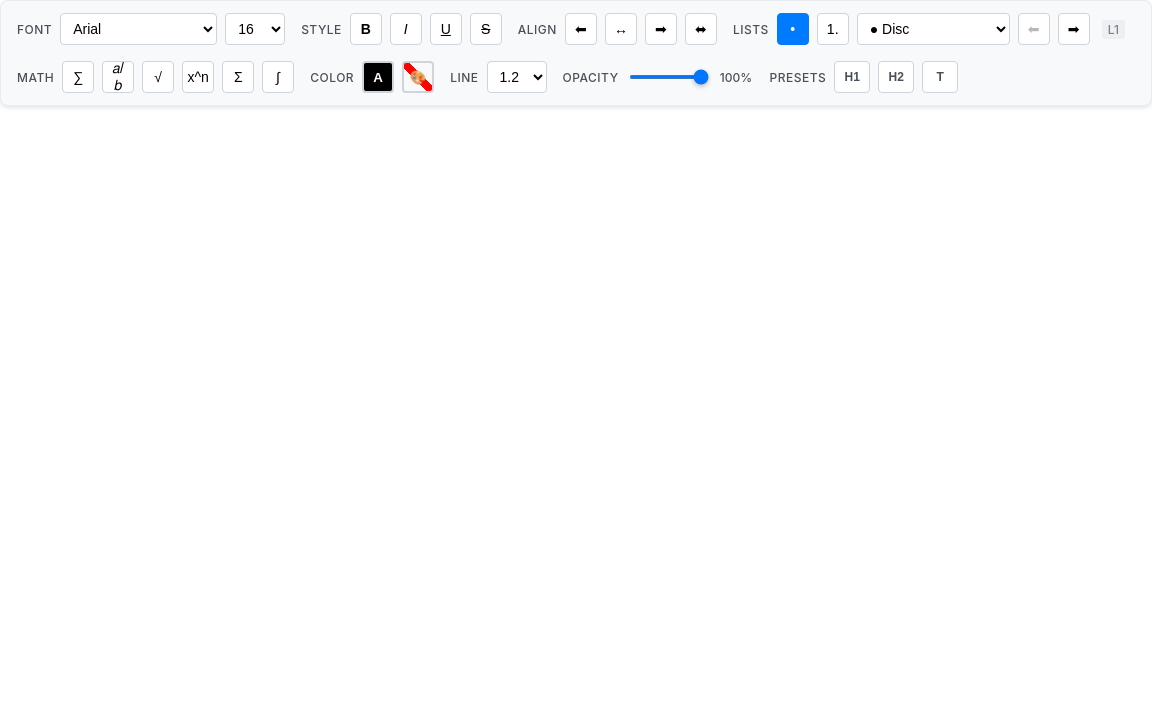
Test case: TextFormattingToolbar - List Functionality › closes custom bullet dialog when Cancel is clicked
This screenshot has width=1152, height=720.
Open custom bullet dialog
Select "✦ Custom" in the dropdown titled "List Style" at (933,29), box [857,13,1010,45]
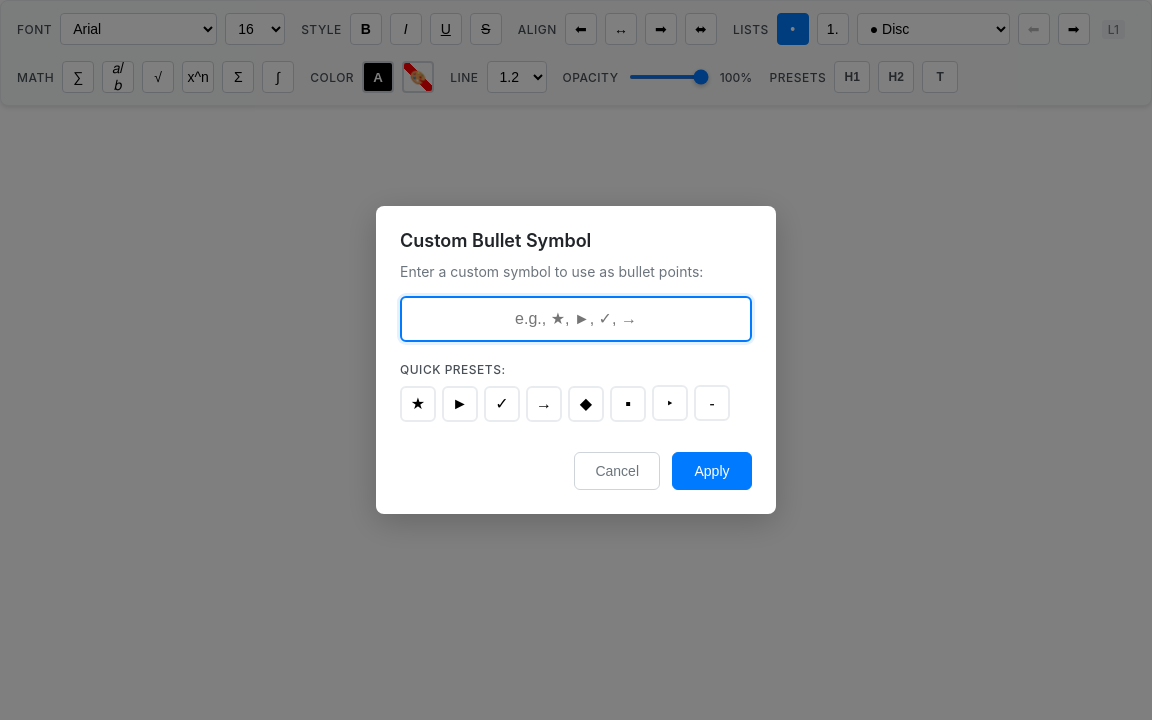
Check: the heading "Custom Bullet Symbol" is shown, box [400,230,591,251]
Click Cancel
Click the button "Cancel" at (617,471), box [574,452,660,490]
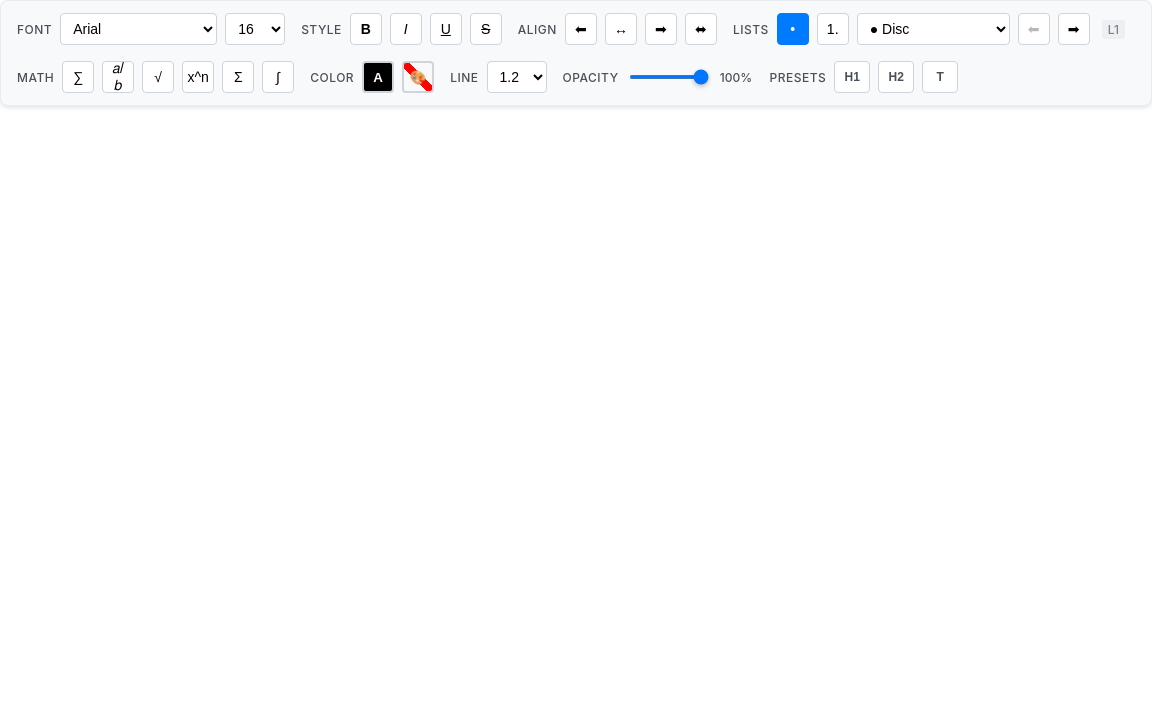
Check: the heading "Custom Bullet Symbol" is gone
